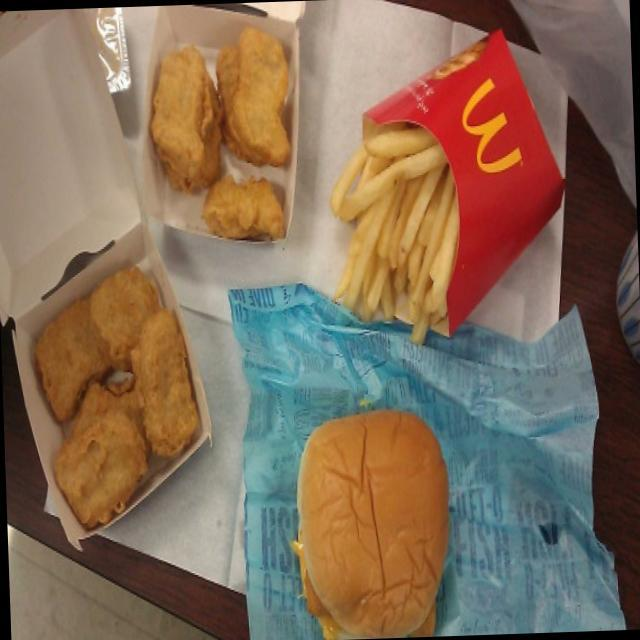French Fries: (330, 93, 475, 340)
Hamburger: (283, 396, 456, 636)
